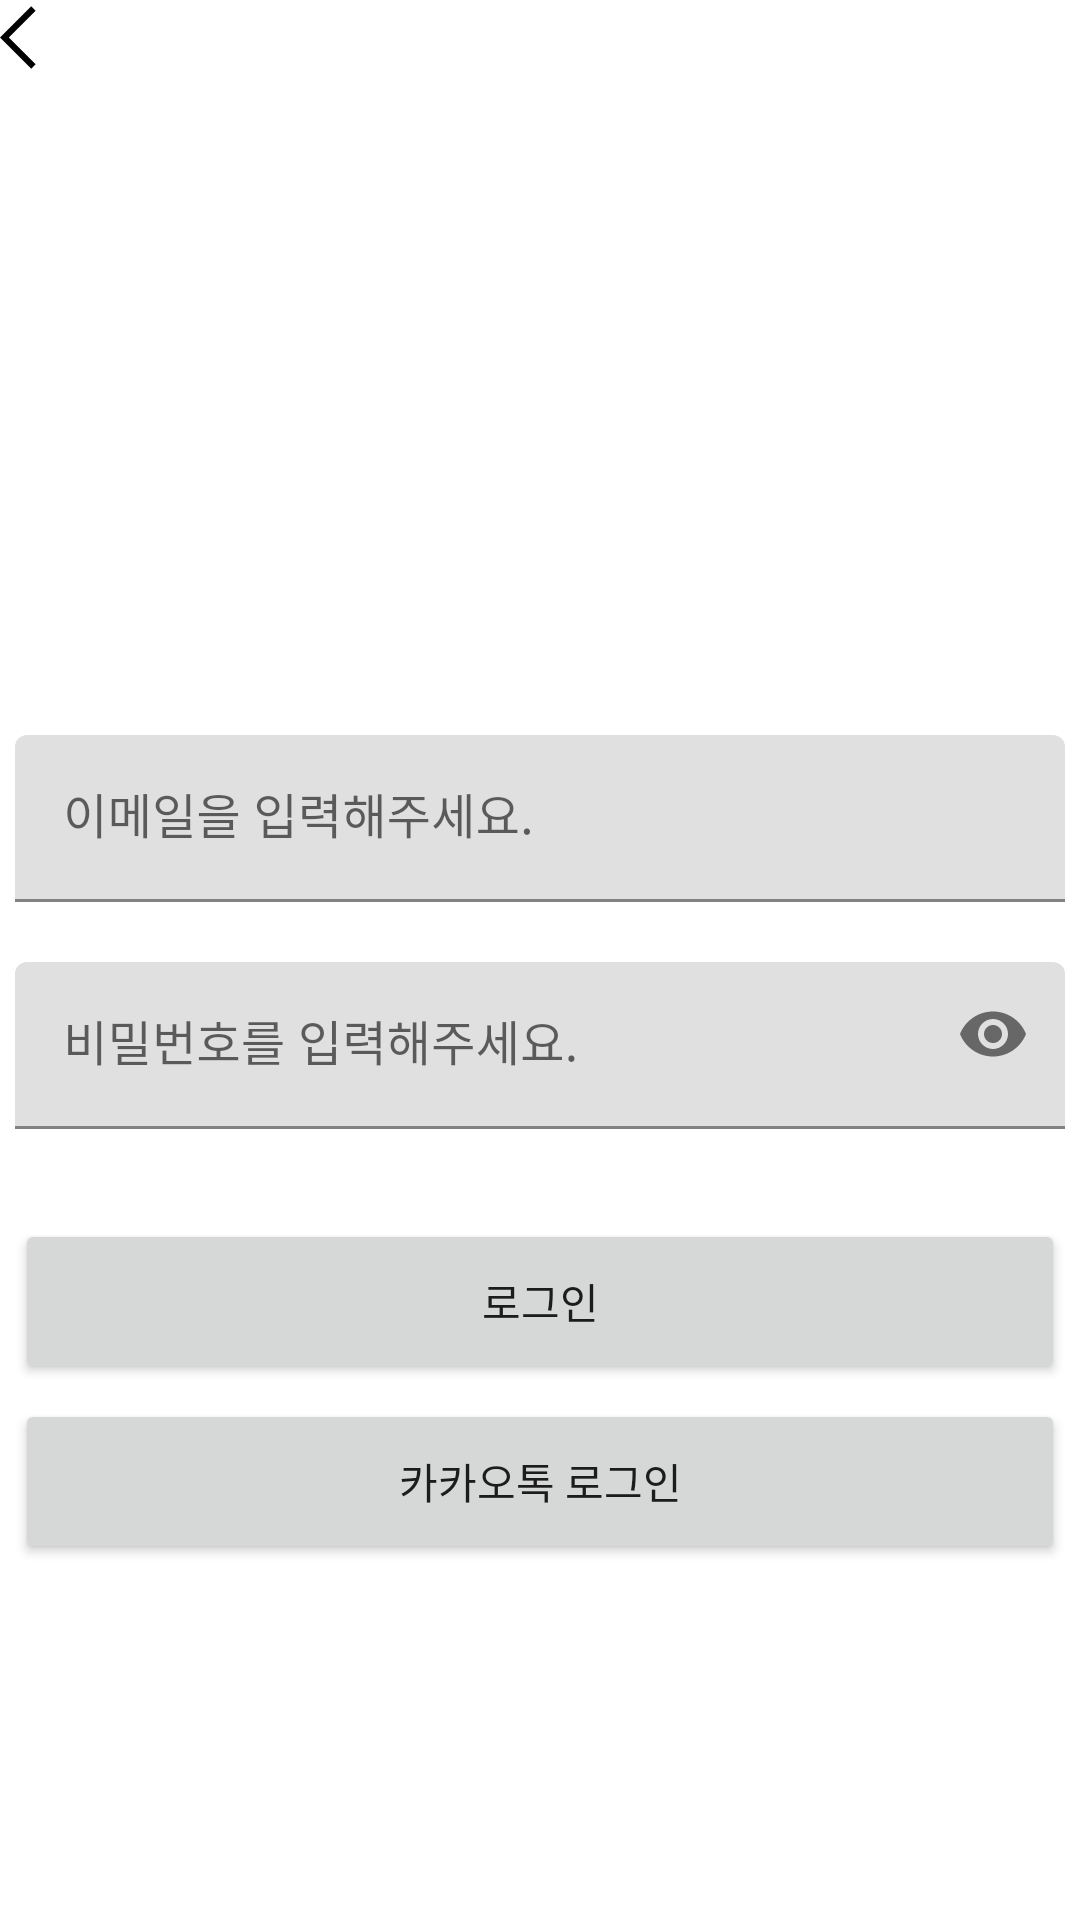

Locate icon controls on the screen. Image size 1080px x 1920px, boxes as [x1,y1,x2,y2].
arrow back: [0,6,36,69]
